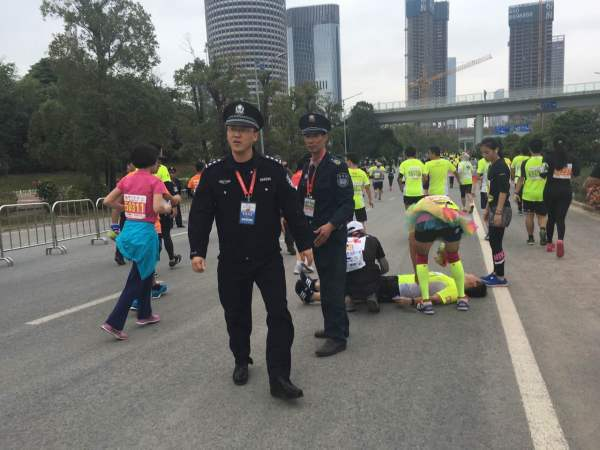10+: (91, 109, 576, 390)
down: (288, 265, 494, 314)
